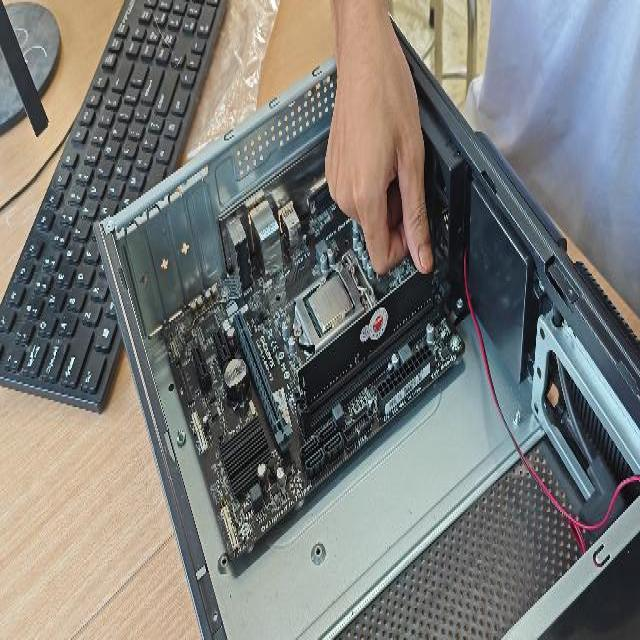CPU: (306, 271, 354, 337)
Mainboard: (165, 143, 468, 557)
RAM: (298, 266, 435, 412)
